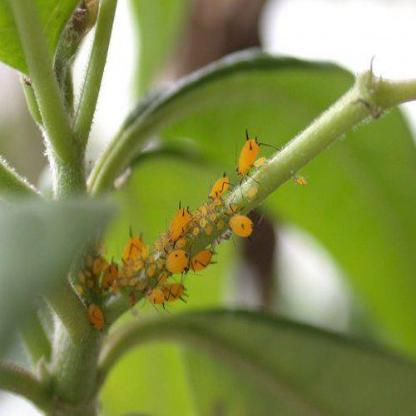aphid: (231, 124, 270, 186), (167, 195, 193, 246), (226, 208, 258, 242), (118, 230, 152, 262), (80, 298, 108, 332), (160, 278, 188, 308), (98, 254, 118, 296), (205, 168, 229, 202), (192, 243, 216, 277), (161, 249, 193, 274), (143, 286, 167, 308), (82, 262, 99, 291), (291, 169, 310, 190), (242, 182, 261, 201), (211, 212, 227, 231), (125, 266, 138, 288), (143, 260, 157, 280), (196, 212, 208, 231), (206, 221, 216, 237)
